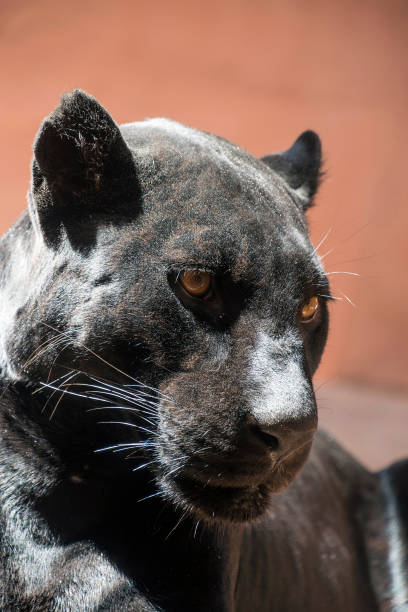panther: (11, 81, 376, 566)
